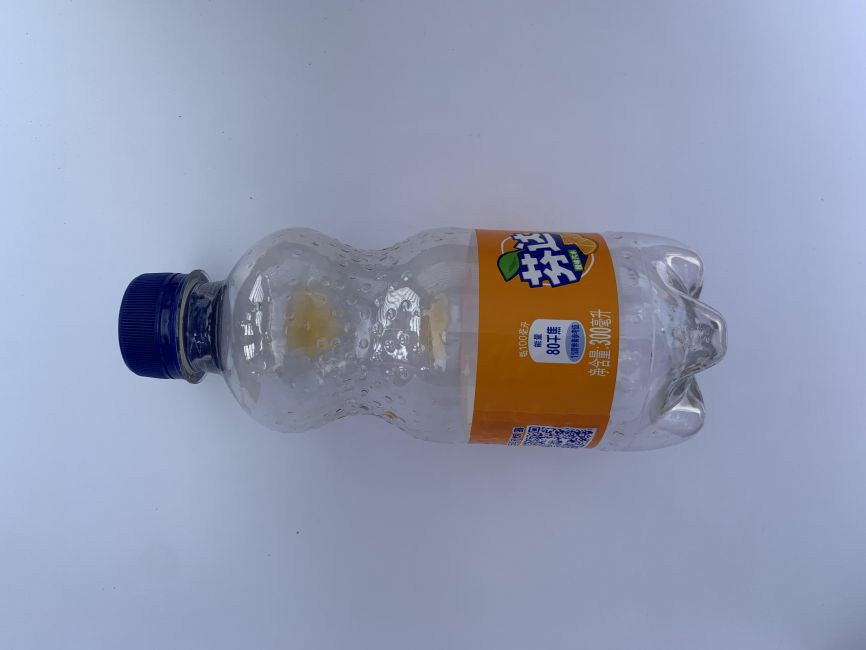bottle: (110, 218, 734, 464)
